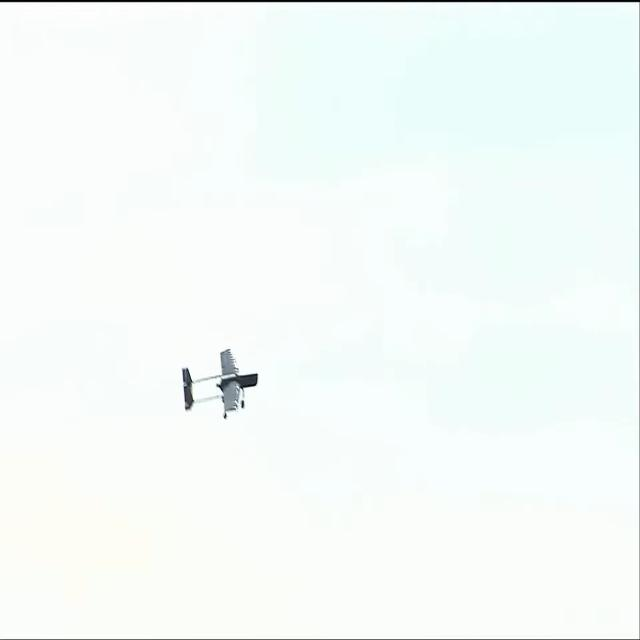iha: (217, 384, 223, 387)
